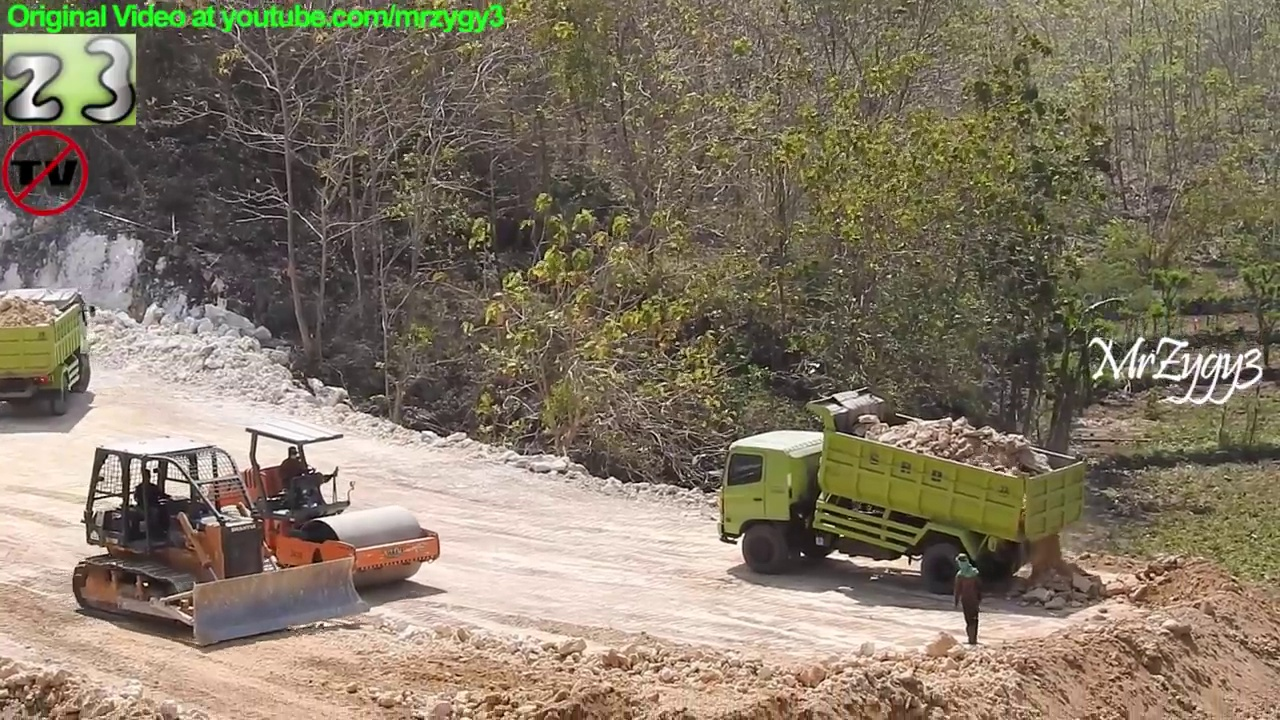bulldozer: (65, 437, 377, 651)
compactor: (192, 417, 446, 598)
truck: (712, 376, 1099, 602), (1, 284, 99, 423)
